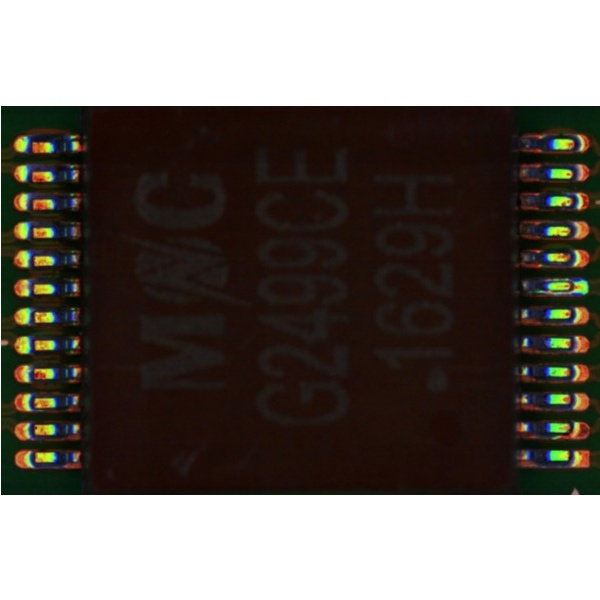Bad_podu: (565, 282, 577, 291)
Bad_qiaojiao: (539, 277, 569, 282), (535, 291, 568, 295)
